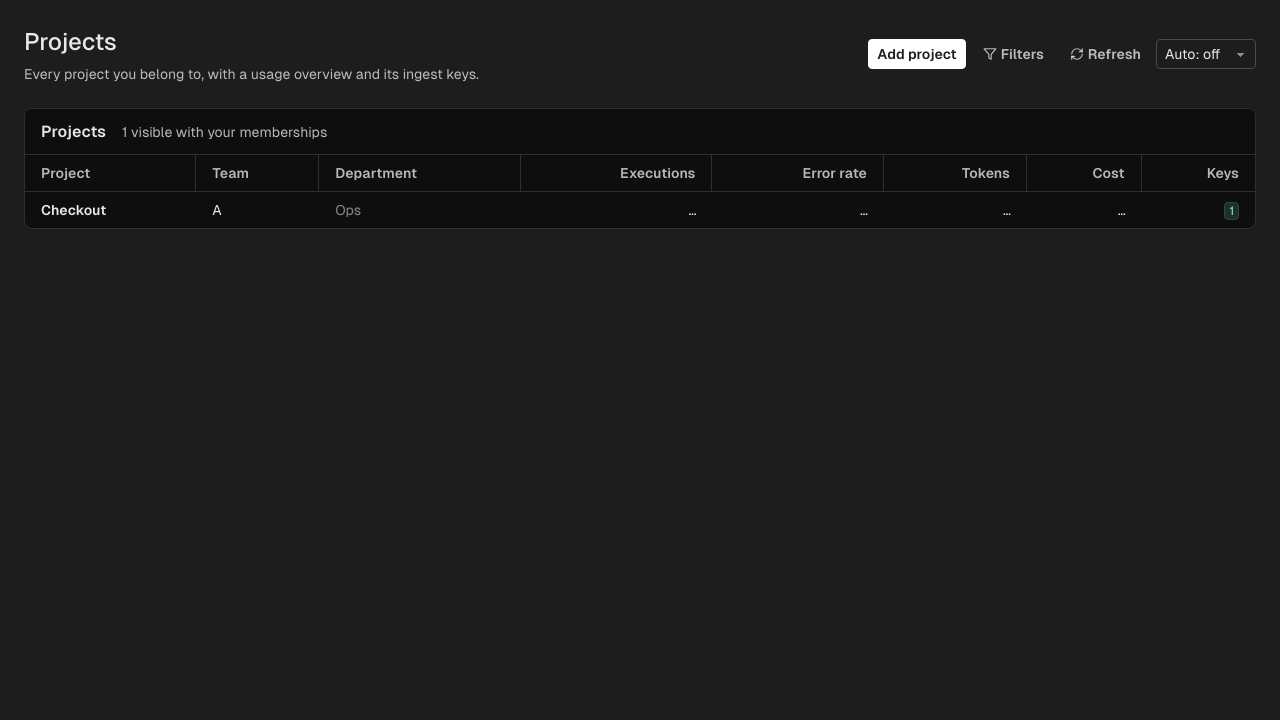
Test: Projects + Project › adds a project to one of the caller's teams
The width and height of the screenshot is (1280, 720).
Click the button "Add project". click: (917, 54)
box: [868,39,966,69]
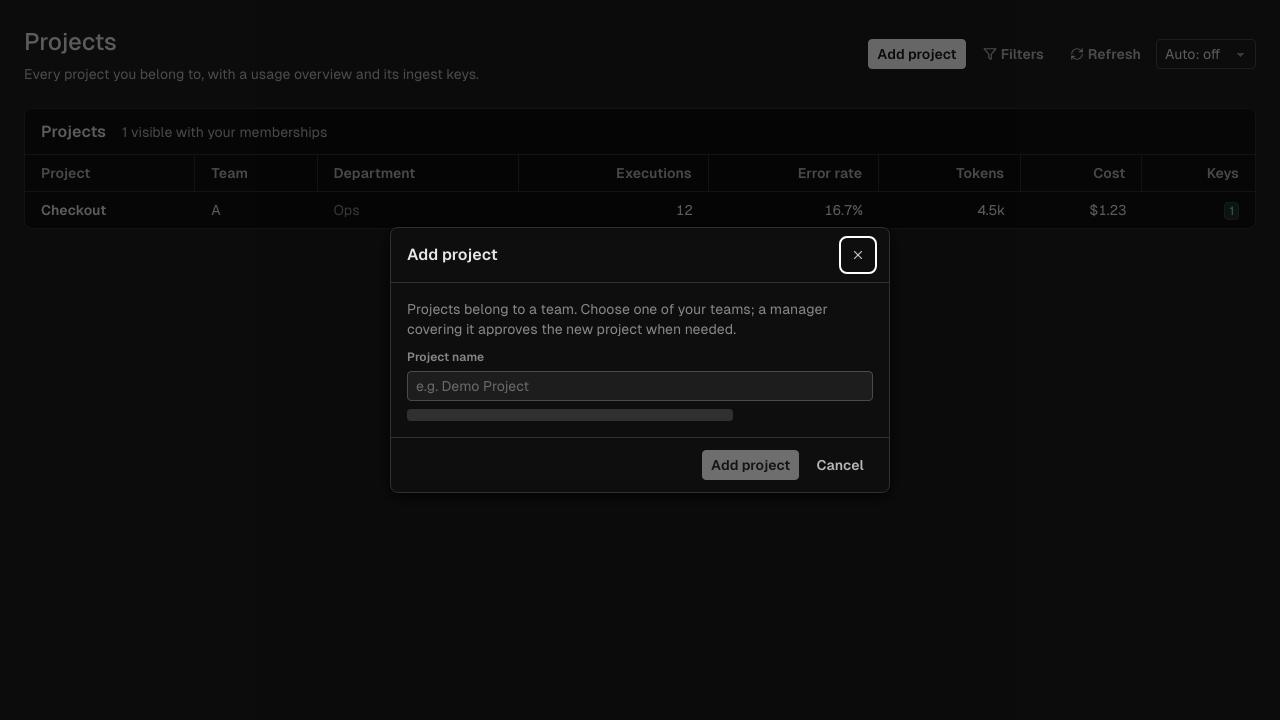
Type "New API" into the field with placeholder "e.g. Demo Project". click: (640, 386)
box: [407,371,873,401]
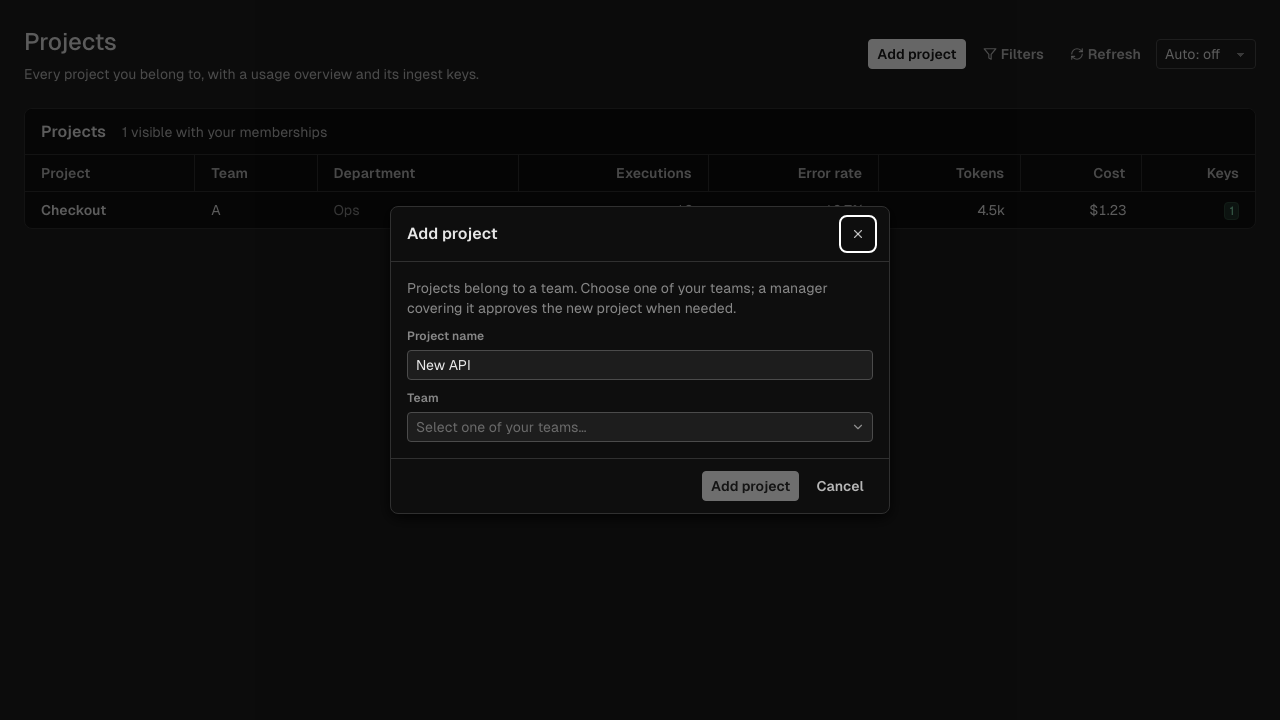
Focus the dropdown named "Project team". click: (640, 427)
box: [407,412,873,442]
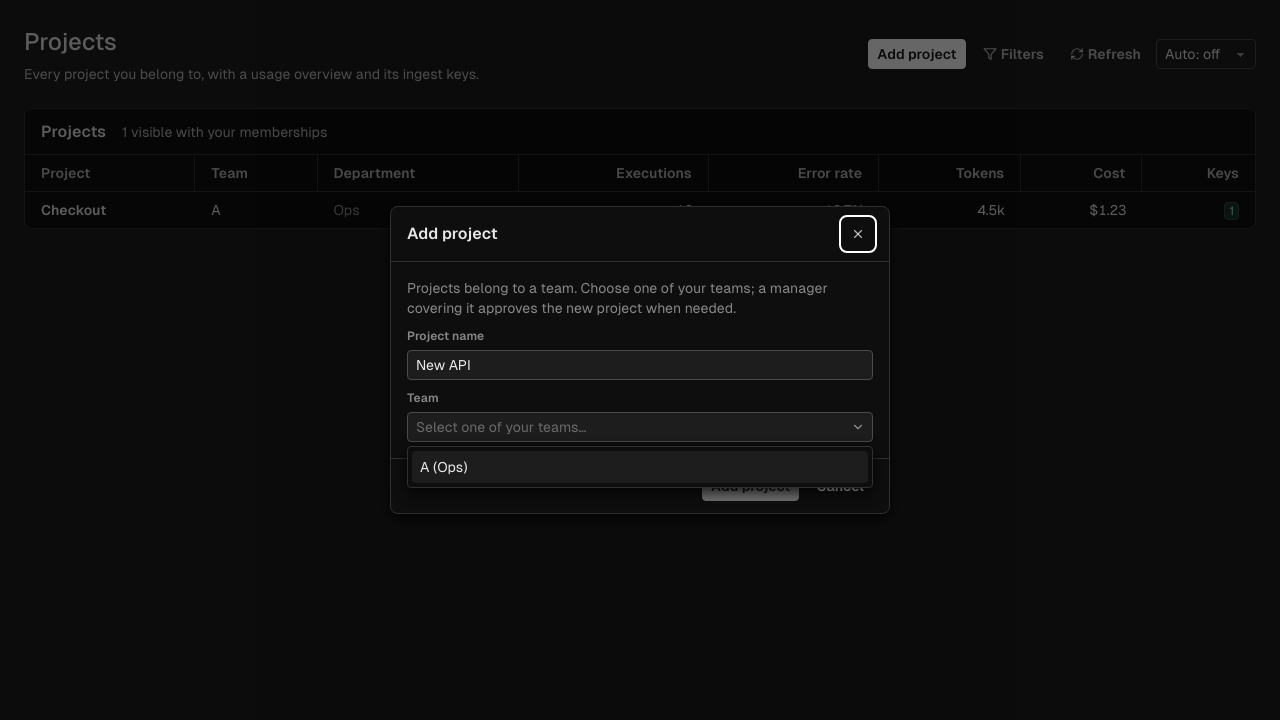
Press the mouse on the option "A (Ops)" at (444, 467), box [412,451,868,483]
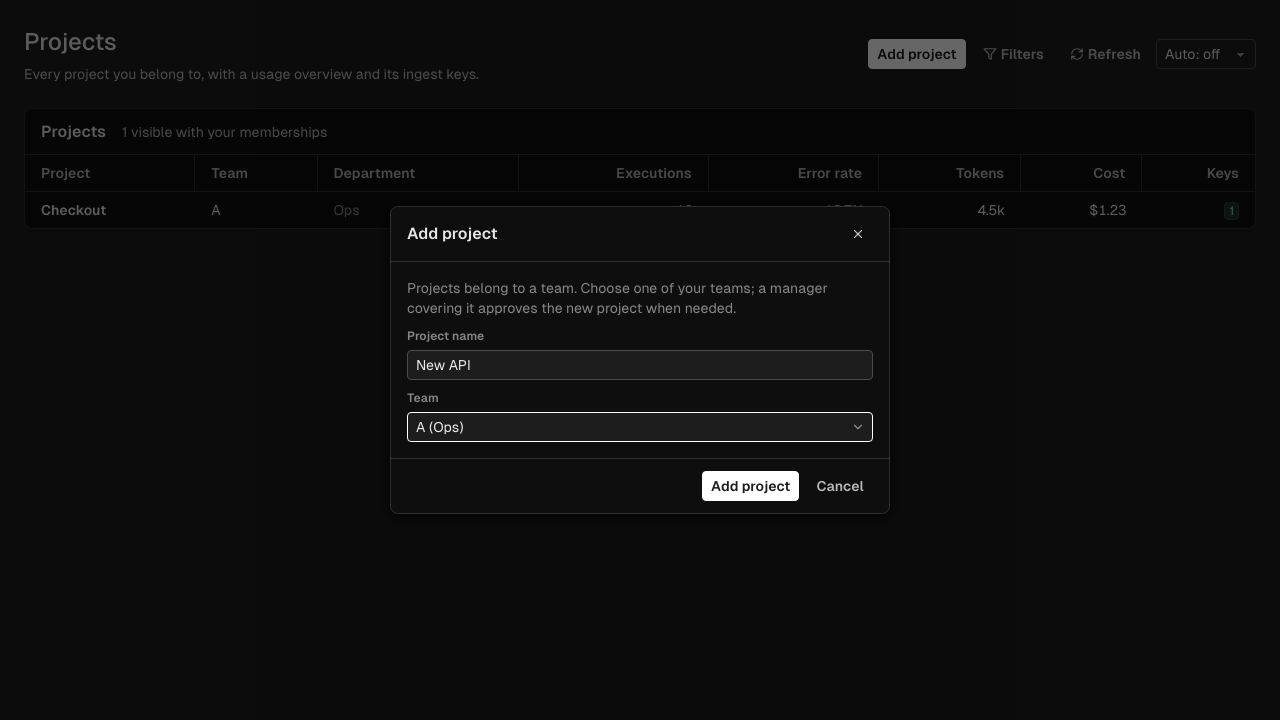
Click the button "Add project". click: (751, 486)
box: [702,471,799,501]
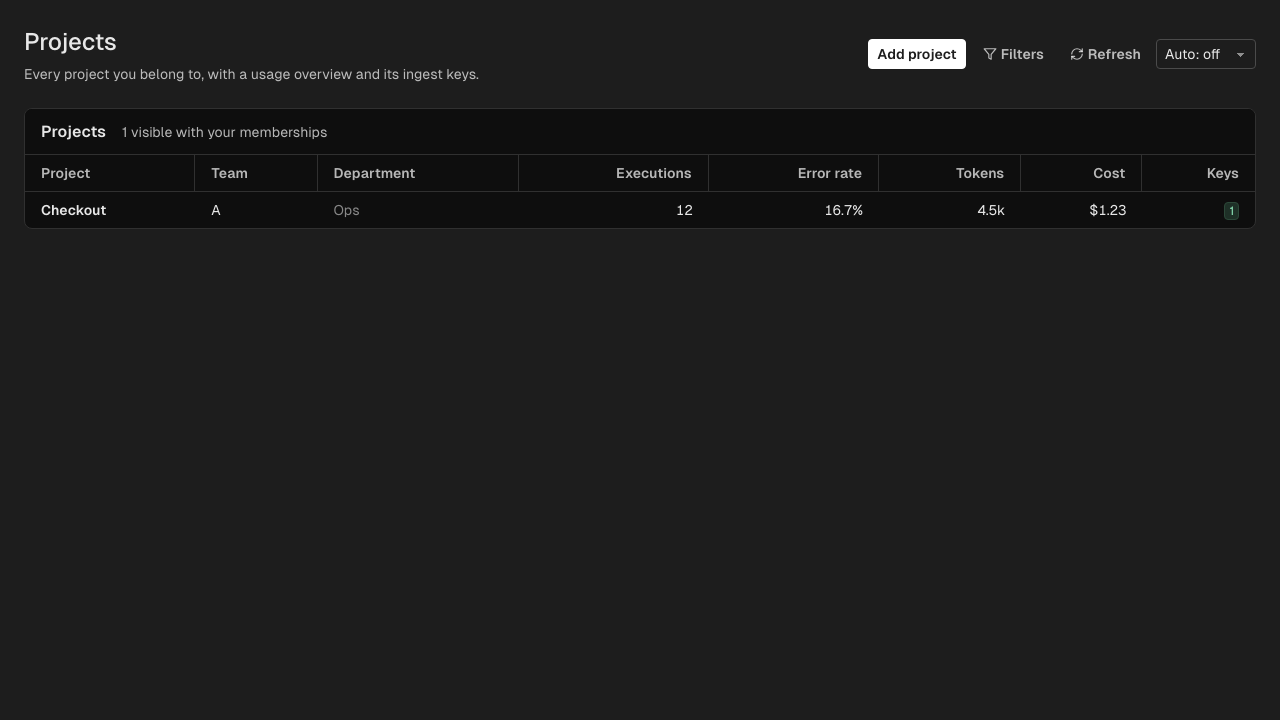
Now the dialog is gone
